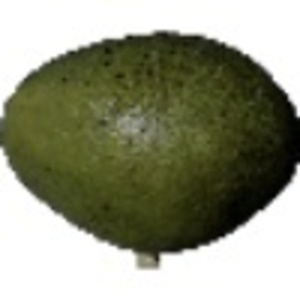abacate: (3, 26, 297, 253)
